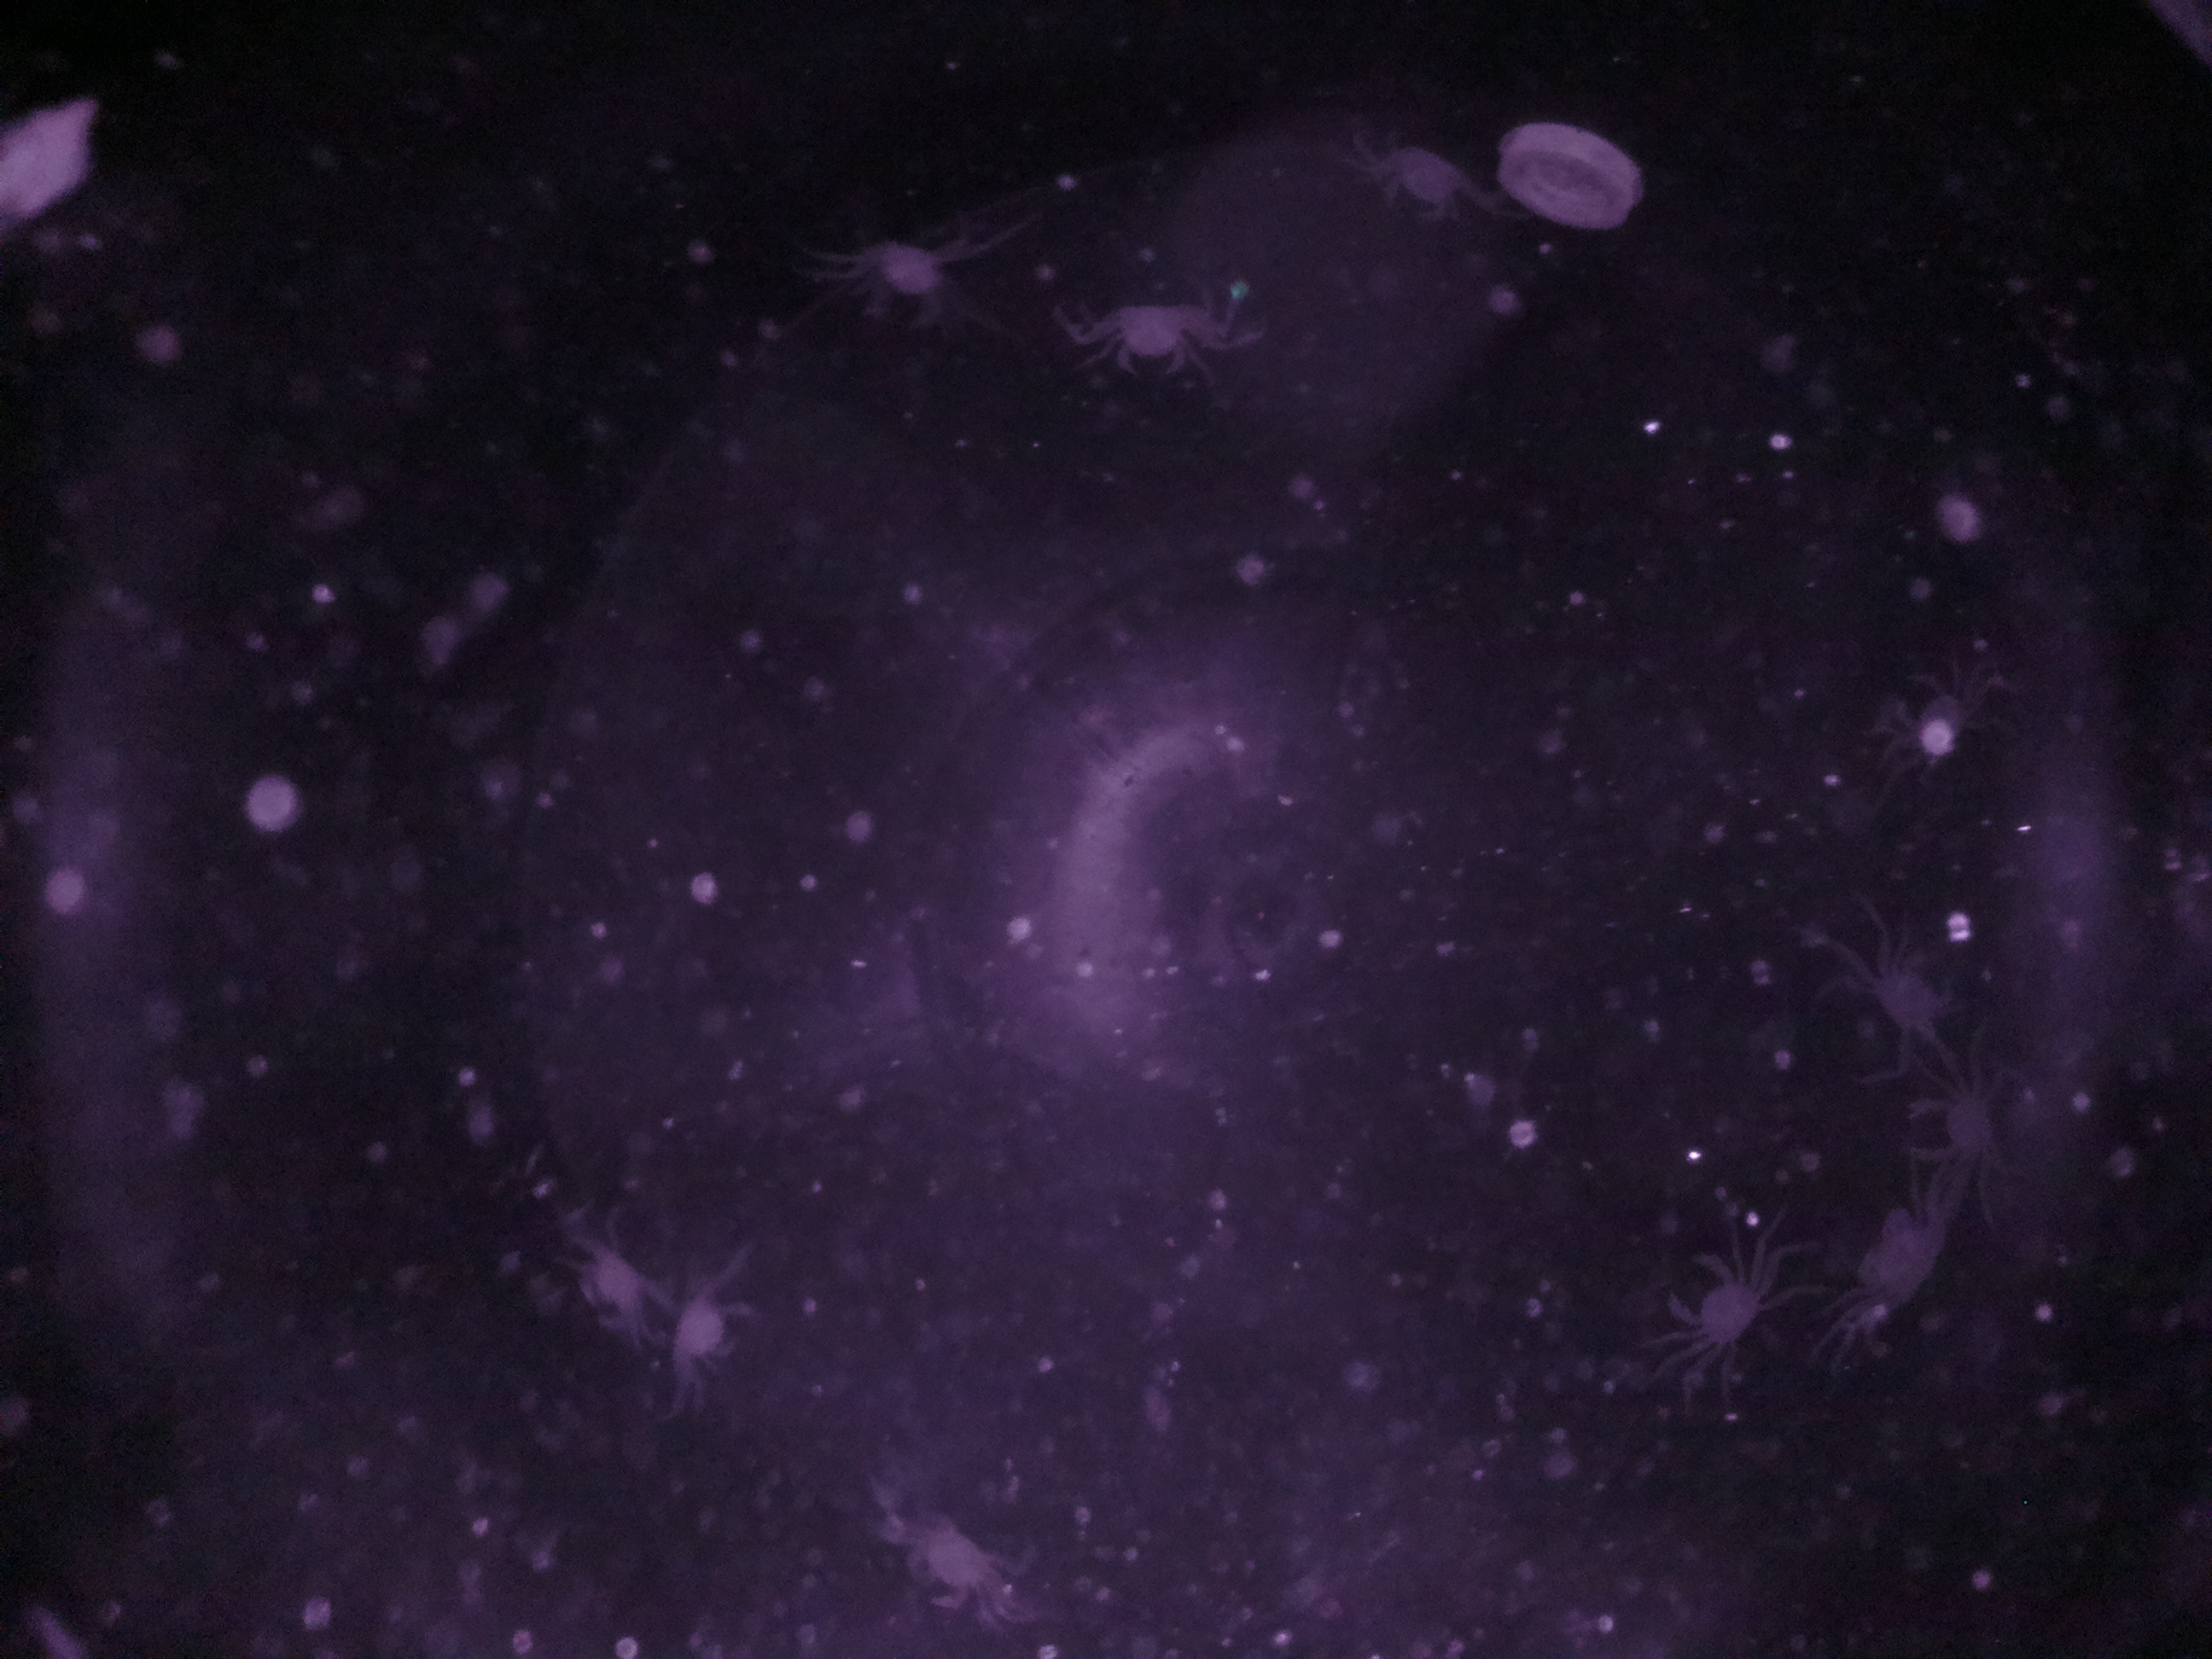Crab: (1646, 1225, 1782, 1363), (1848, 925, 1977, 1060), (1846, 1204, 1966, 1333), (1357, 118, 1479, 240), (1090, 277, 1214, 396), (1892, 1065, 2017, 1175), (894, 1499, 1005, 1617), (563, 1229, 664, 1347), (657, 1277, 768, 1382)
